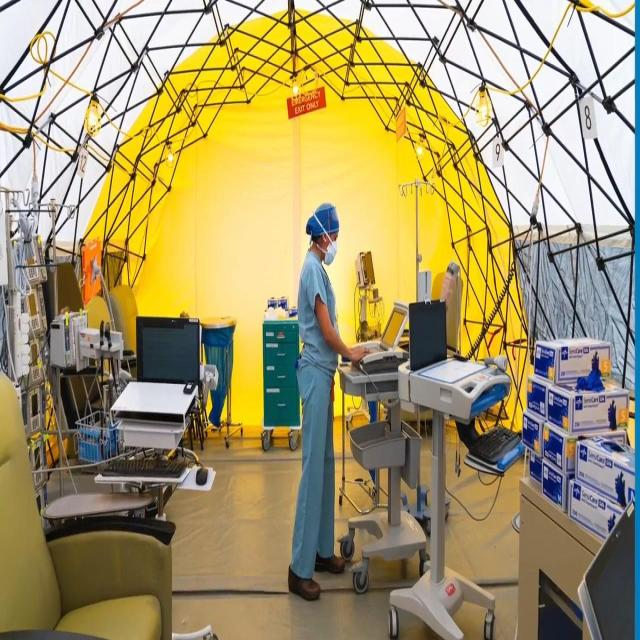Mask: (324, 231, 338, 265)
